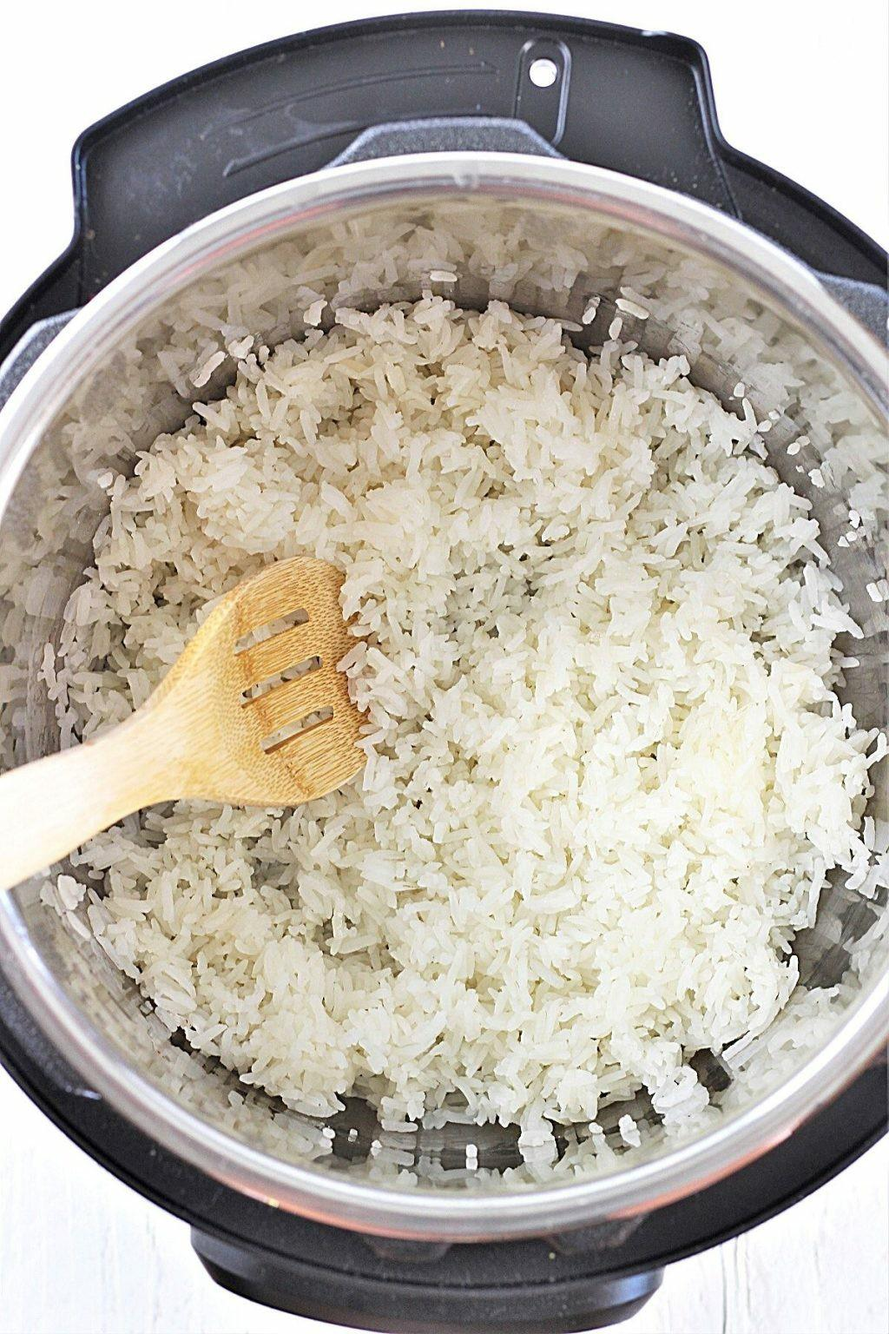WhiteRice: (35, 288, 889, 1147)
